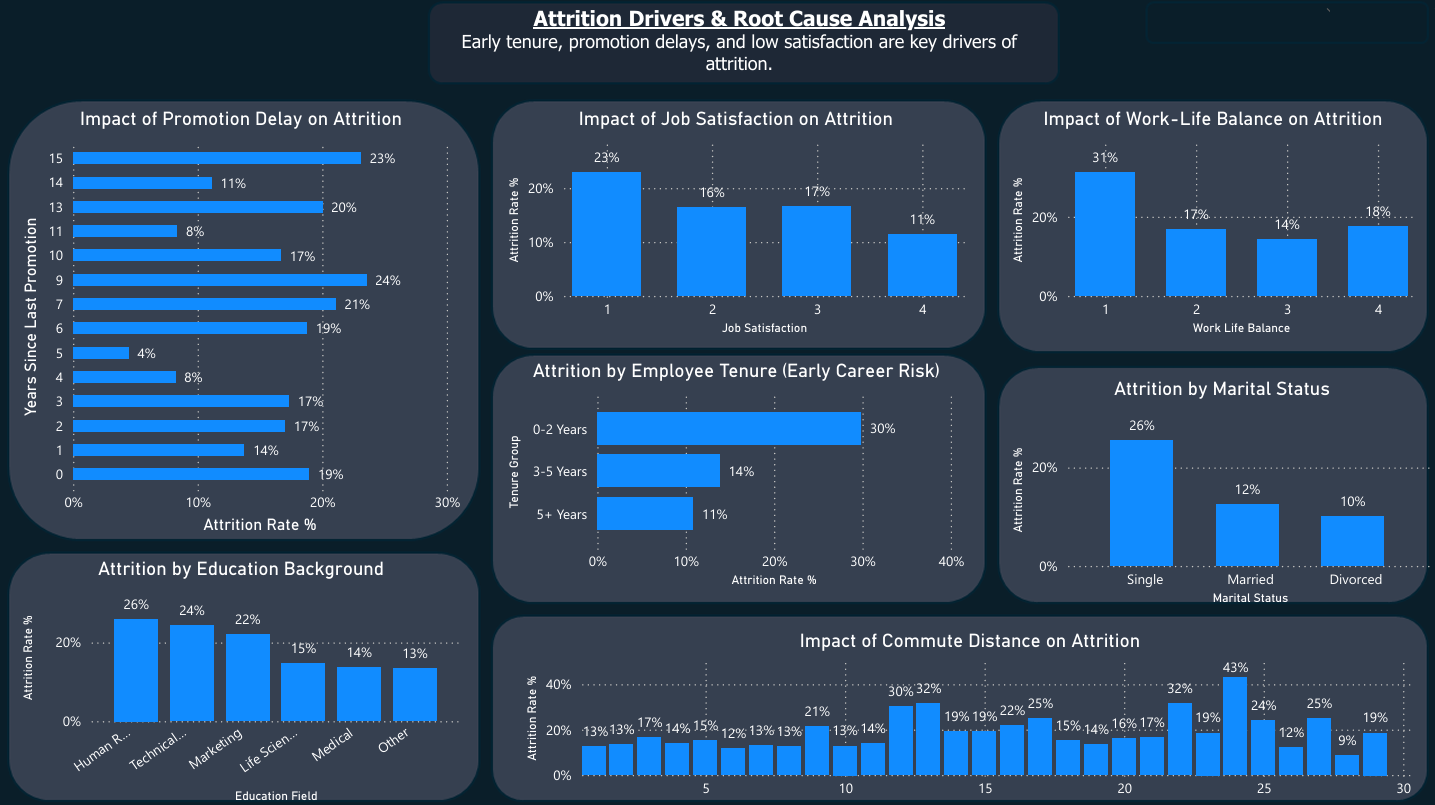

The page's visual inventory and layout, read from the dashboard file:
{"tool":"powerbi","page":{"name":"Page 2","canvas":[1280,720],"ordinal":1},"visuals":[{"type":"barChart","title":"Attrition by Employee Tenure (Early Career Risk)","fields":{"Category":["Palo Alto Networks.Tenure Group"],"Y":["Palo Alto Networks.Attrition Rate %"]},"box":[448,320,416,208],"z":0},{"type":"barChart","title":"Impact of Promotion Delay on Attrition","fields":{"Category":["Palo Alto Networks.Years Since Last Promotion"],"Y":["Palo Alto Networks.Attrition Rate %"]},"box":[16,96,400,384],"z":1000},{"type":"columnChart","title":"Impact of Work-Life Balance on Attrition","fields":{"Y":["Palo Alto Networks.Attrition Rate %"],"Category":["Palo Alto Networks.Work Life Balance"]},"box":[896,96,368,208],"z":2000},{"type":"columnChart","title":"Attrition by Education Background","fields":{"Category":["Palo Alto Networks.Education Field"],"Y":["Palo Alto Networks.Attrition Rate %"]},"box":[16,496,400,224],"z":3000},{"type":"columnChart","title":"Attrition by Marital Status","fields":{"Category":["Palo Alto Networks.Marital Status"],"Y":["Palo Alto Networks.Attrition Rate %"]},"box":[896,336,384,208],"z":4000},{"type":"columnChart","title":"Impact of Commute Distance on Attrition","fields":{"Y":["Palo Alto Networks.Attrition Rate %"],"Category":["Palo Alto Networks.Distance From Home"]},"box":[464,560,800,160],"z":5000},{"type":"columnChart","title":"Impact of Job Satisfaction on Attrition","fields":{"Y":["Palo Alto Networks.Attrition Rate %"],"Category":["Palo Alto Networks.Job Satisfaction"]},"box":[448,96,416,208],"z":6000},{"type":"textbox","box":[384,0,550,80],"z":7000},{"type":"slicer","fields":{"Values":["Palo Alto Networks.Department"]},"box":[1248,0,32,16],"z":8000},{"type":"slicer","fields":{"Values":["Palo Alto Networks.Gender"]},"box":[1152,0,32,16],"z":9000}]}

Visuals, with their boxes in screenshot pixels (x1, y1, x2, y2), scaled from the page's 1280x720 canvas onto the 1435x805 screenshot:
"Attrition by Employee Tenure (Early Career Risk)" barChart: bbox=(502, 358, 969, 590)
"Impact of Promotion Delay on Attrition" barChart: bbox=(18, 107, 466, 537)
"Impact of Work-Life Balance on Attrition" columnChart: bbox=(1004, 107, 1417, 340)
"Attrition by Education Background" columnChart: bbox=(18, 555, 466, 804)
"Attrition by Marital Status" columnChart: bbox=(1004, 376, 1434, 608)
"Impact of Commute Distance on Attrition" columnChart: bbox=(520, 626, 1417, 804)
"Impact of Job Satisfaction on Attrition" columnChart: bbox=(502, 107, 969, 340)
textbox: bbox=(430, 0, 1047, 89)
slicer - Palo Alto Networks.Department: bbox=(1399, 0, 1434, 18)
slicer - Palo Alto Networks.Gender: bbox=(1292, 0, 1327, 18)
